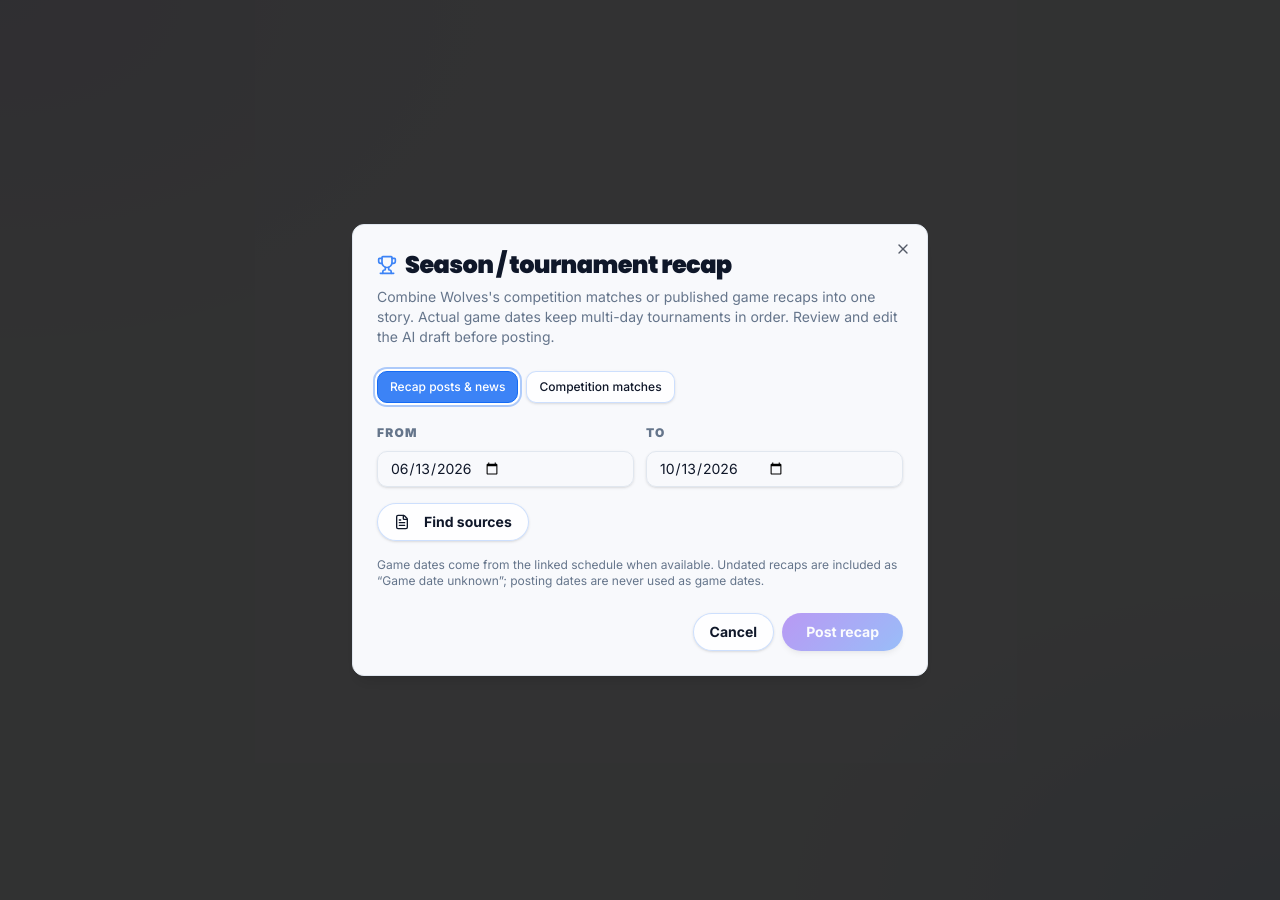
Test case: Combined Recap competition matches › preserves text but prevents posting a stale draft after selecting another overlapping competition
Click the button with test id "button-season-recap-competition-mode" at (600, 387), box [526, 371, 675, 403]
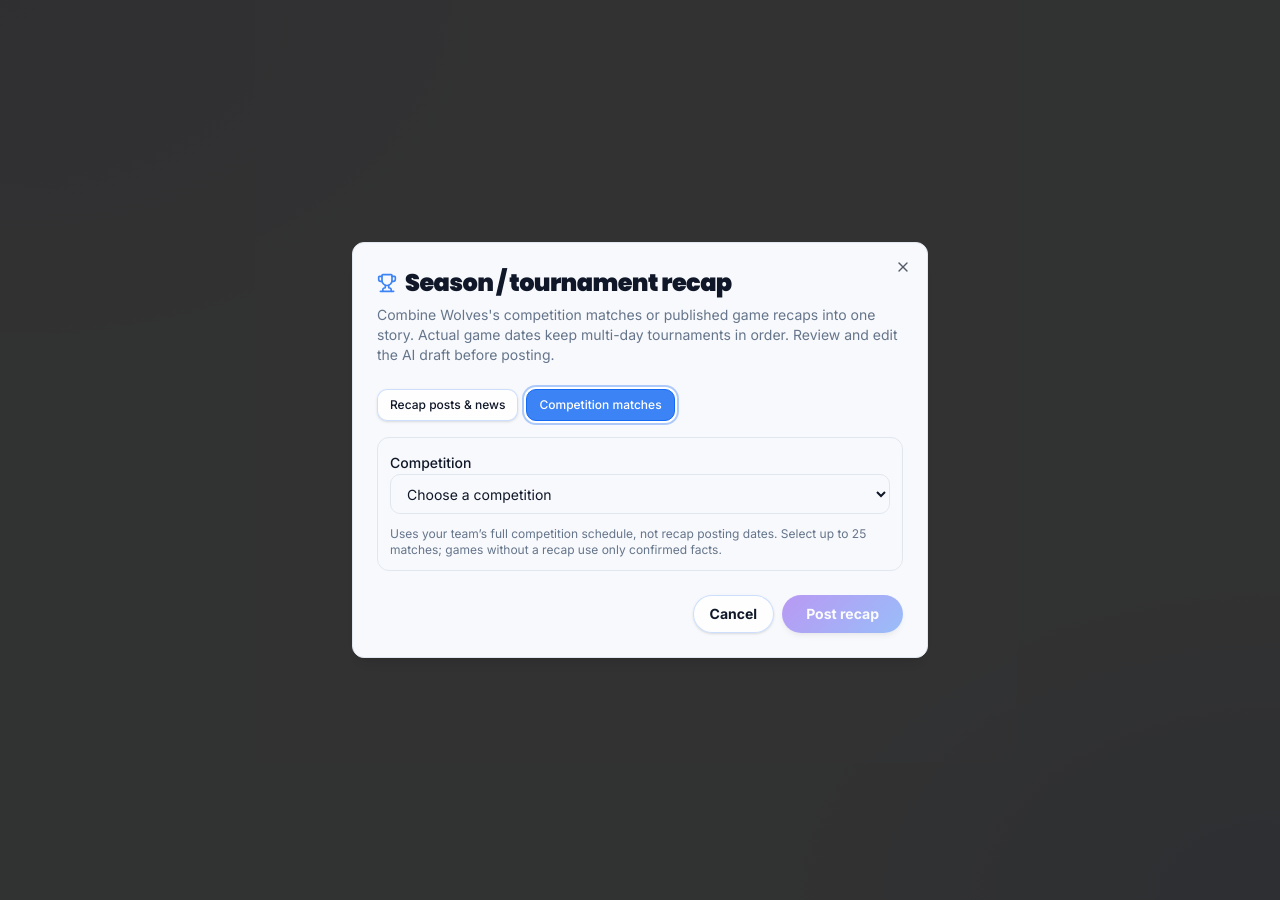
Select "Weekend Cup · 2026-10-03 – 2026-10-04" in the dropdown with test id "select-season-recap-competition" at (640, 494), box [390, 474, 890, 514]
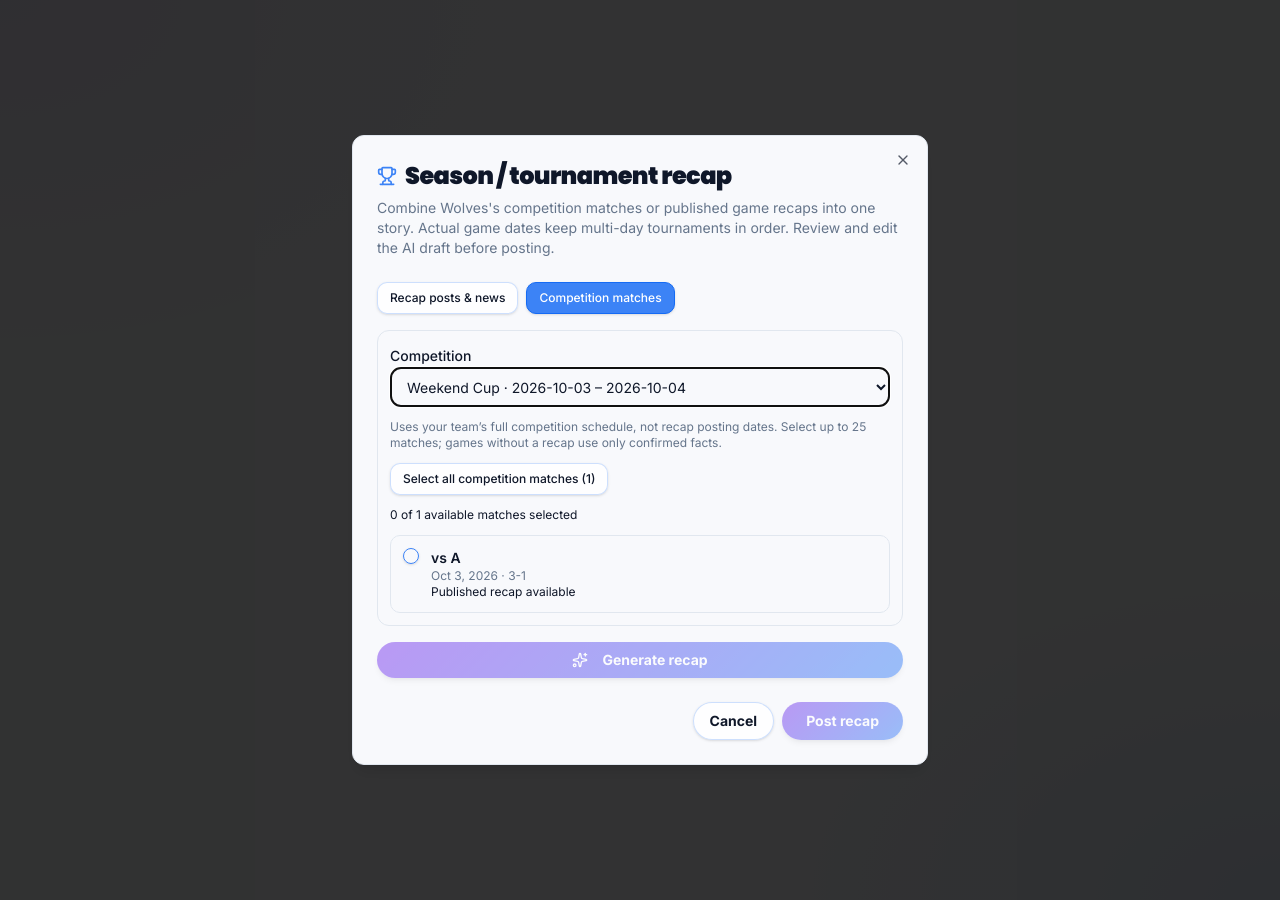
Now the button with test id "button-select-all-competition-matches" is shown
Click the button with test id "button-select-all-competition-matches" at (499, 479), box [390, 463, 608, 495]
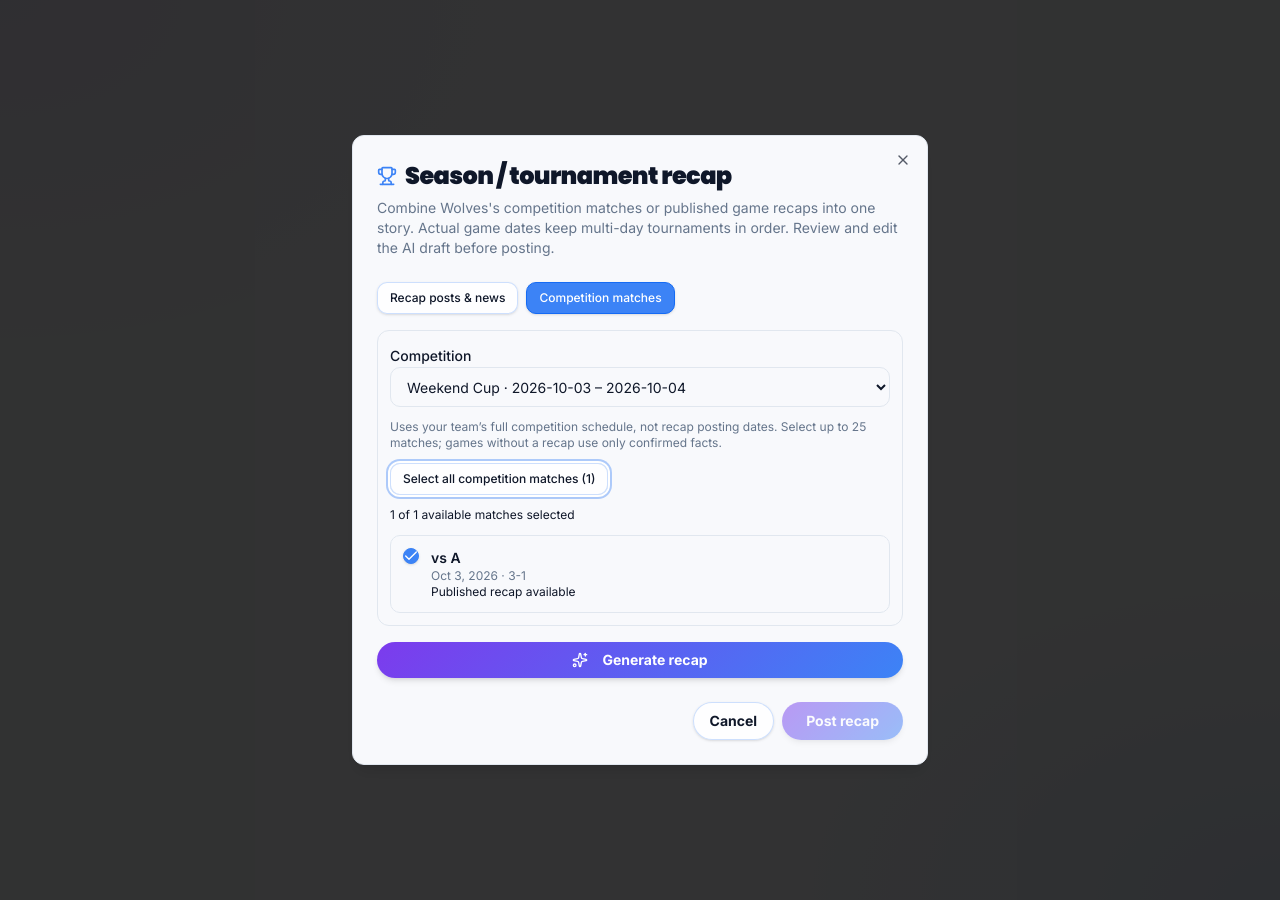
Click the button with test id "button-season-recap-generate" at (640, 660), box [377, 642, 903, 678]
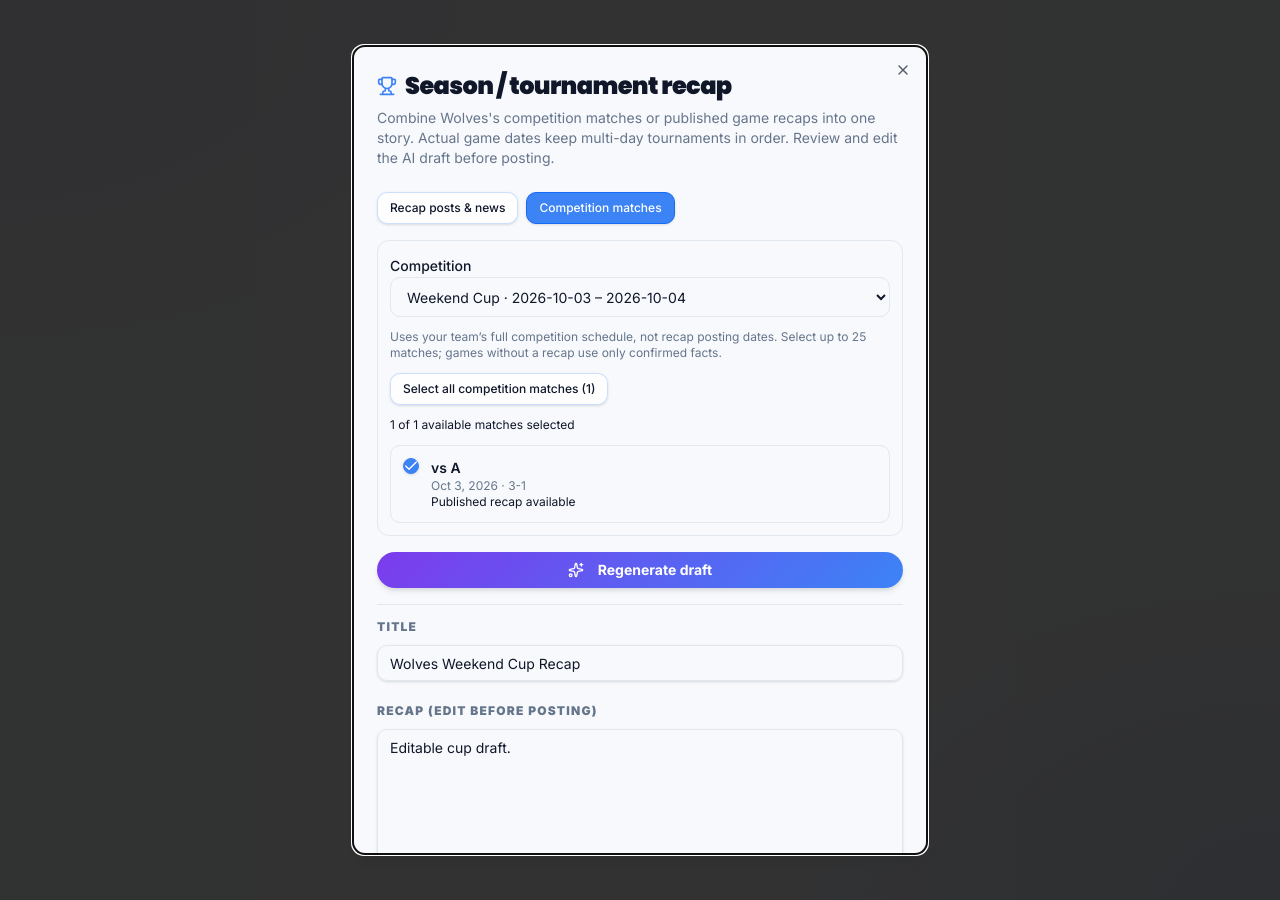
Select "Season League · 2026-08-01 – 2026-12-31" in the dropdown with test id "select-season-recap-competition" at (640, 297), box [390, 277, 890, 317]
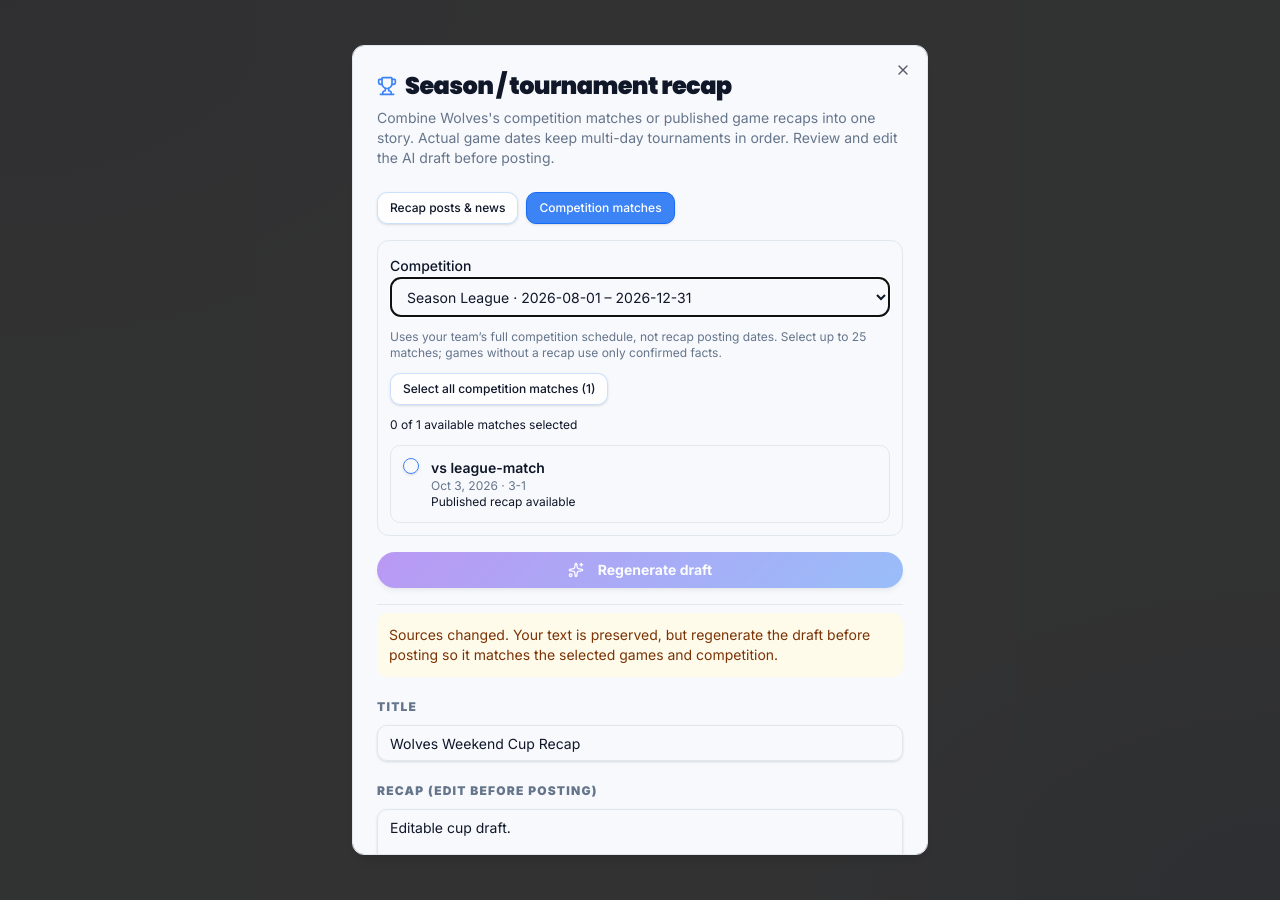
Now the text "Sources changed" is shown, box [389, 626, 870, 663]
Now the checkbox with test id "checkbox-competition-match-A" is gone
Now the checkbox with test id "checkbox-competition-match-league-match" is not checked, box [403, 458, 419, 474]
